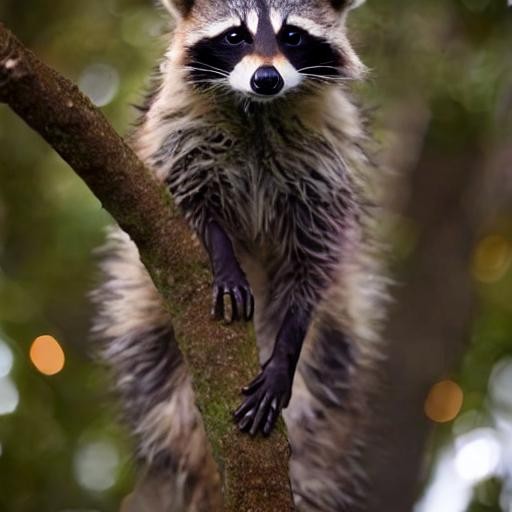raccoon: (99, 0, 387, 512)
